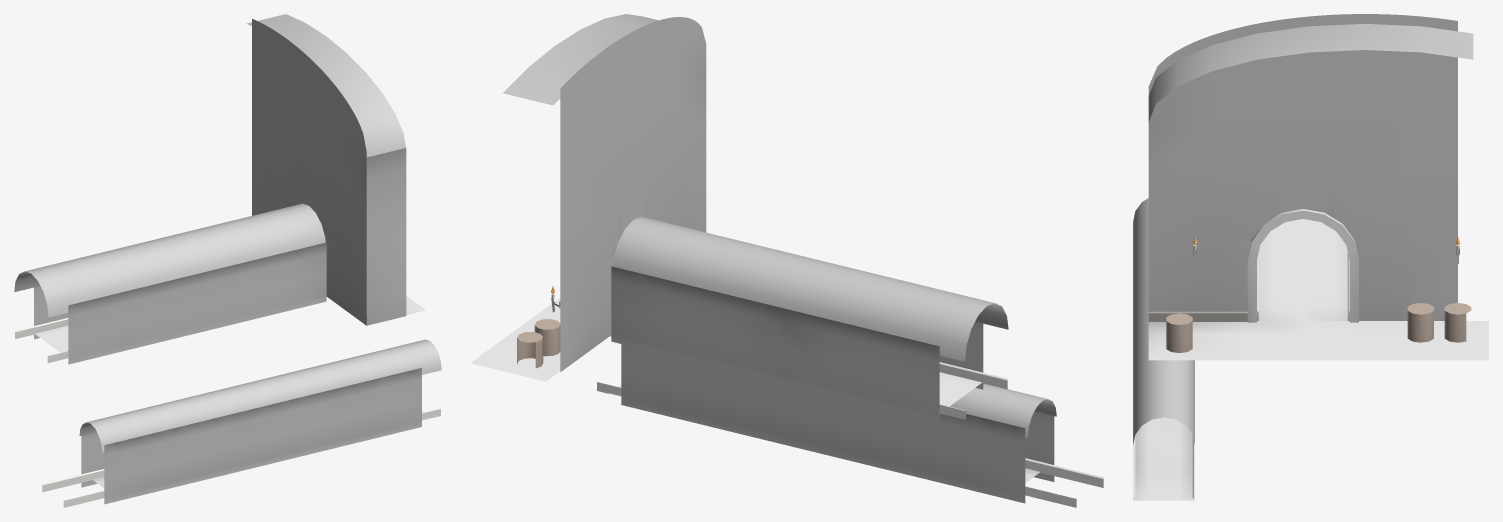
File: crypt_08_ay.glb
3 views of the same model, side by side, from view 1: azimuth 30°, elevation 25°; view 2: azimuth 150°, elevation 25°; view 3: azimuth 270°, elevation 25° (orthographic). The views are drawn at different scales.
Parts seen in each view (by area): view 1: crypt_08_ay; view 2: crypt_08_ay; view 3: crypt_08_ay.
Part boxes in pixels (<box>): crypt_08_ay: <box>14,14,441,507</box>; crypt_08_ay: <box>470,14,1104,507</box>; crypt_08_ay: <box>1133,14,1488,500</box>.
Bounding box in the file's own units: 19 × 16.25 × 11.5.
